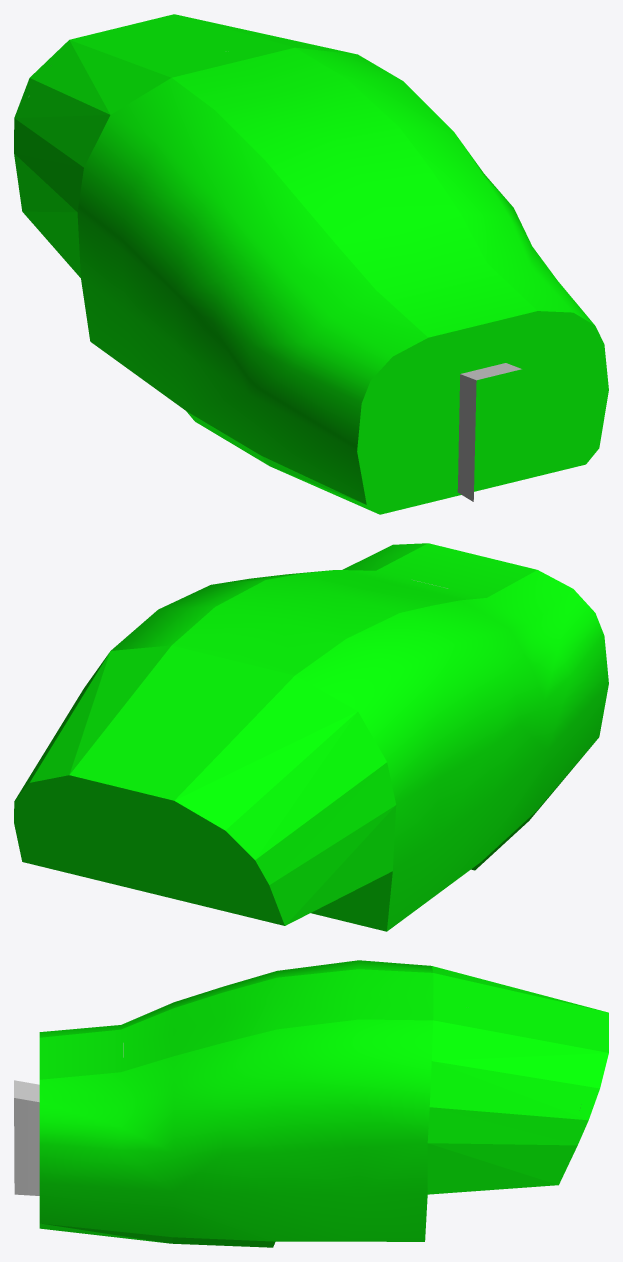
File: VL3_cockpit_lod4.gltf
3 views of the same model, one above another, from view 1: azimuth 30°, elevation 25°; view 2: azimuth 150°, elevation 25°; view 3: azimuth 270°, elevation 25° (orthographic). The views are drawn at different scales.
Visible parts, largest first — view 1: Occluder, Main_Panel; view 2: Occluder; view 3: Occluder, Main_Panel.
Part boxes in pixels (x1=…): Occluder: x1=14, y1=14, x2=608, y2=514; Main_Panel: x1=457, y1=363, x2=521, y2=501; Occluder: x1=14, y1=543, x2=608, y2=931; Occluder: x1=39, y1=960, x2=608, y2=1247; Main_Panel: x1=14, y1=1080, x2=274, y2=1244.
Size of what is drawn, in the model's own units: 1.13 by 0.8652 by 2.32.
